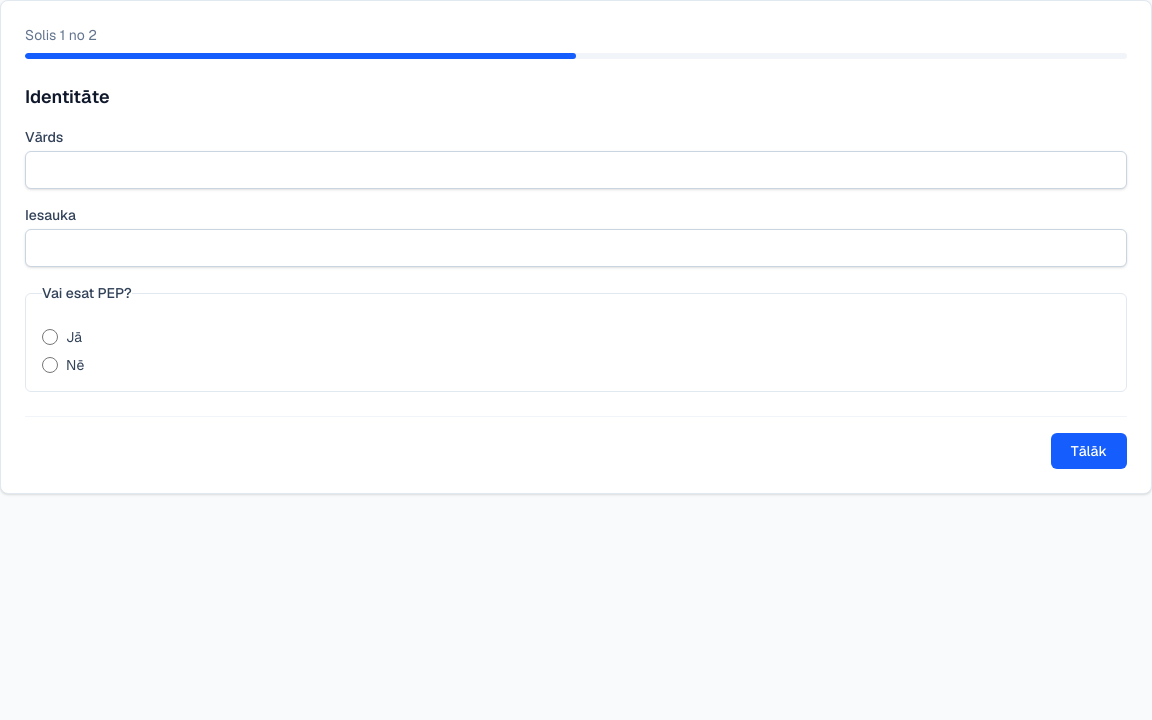
Wizard required fields › refuses to move on while a required field is empty, and says which
Click the button "Tālāk" at x=1089, y=451, box [1051,433,1127,469]
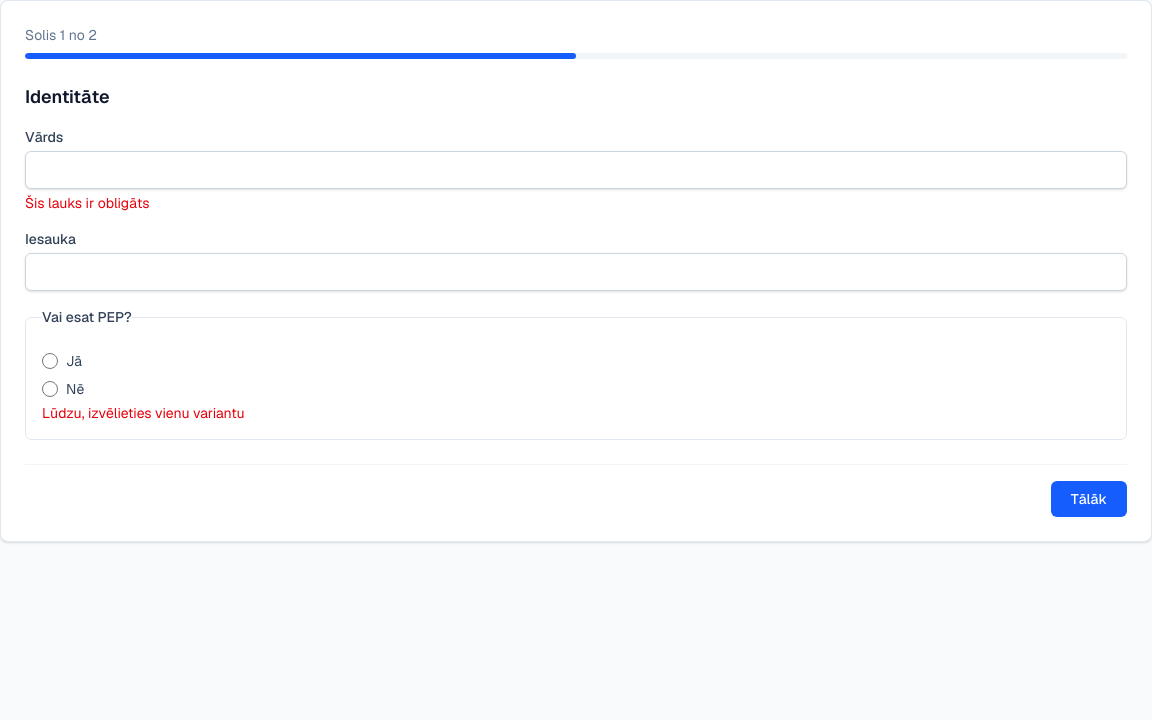
Expected: the heading "Identitāte" is shown, [25,85,110,108]
Now the text "Šis lauks ir obligāts" is shown, box [25,194,149,212]
Now the text "Lūdzu, izvēlieties vienu variantu" is shown, box [42,404,245,422]
